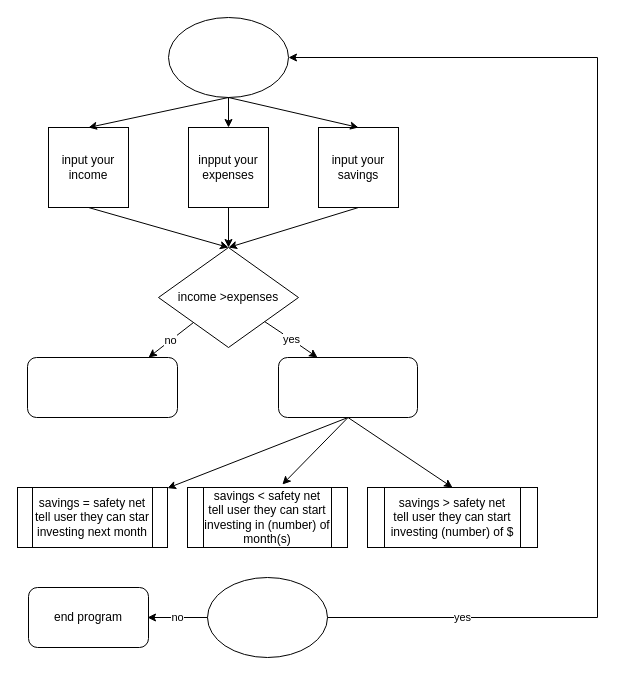
This 623x675 diagram has some shape labels left out. Each missing label, with the centre of its shape:
"app starts" belongs at point (228, 57).
"ask user if they wanted to calculate again" belongs at point (267, 617).
"savings compared to safety net (monthly expenses *6)" belongs at point (348, 387).
"suggest the user to adjust their spending habit, end program" belongs at point (102, 387).
